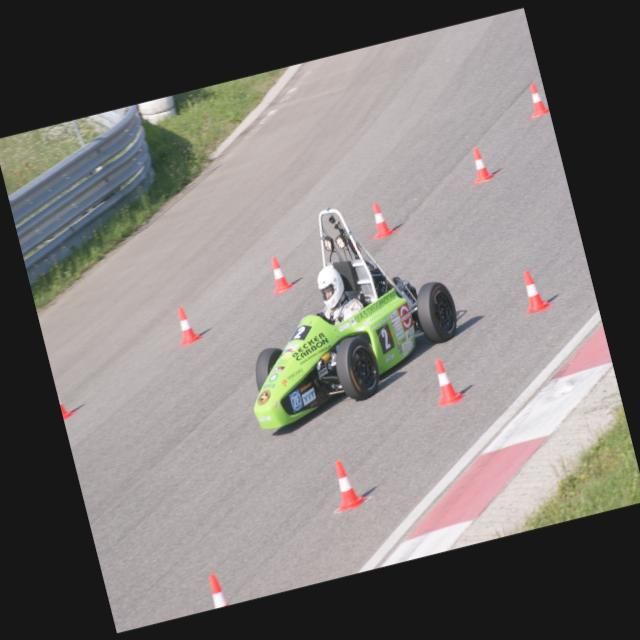orange_cone: (326, 455, 367, 512), (426, 355, 466, 407), (516, 266, 550, 314), (362, 198, 400, 240), (198, 570, 234, 610), (464, 144, 498, 184), (170, 304, 202, 346), (264, 253, 296, 294), (54, 376, 78, 420), (523, 81, 549, 117)
